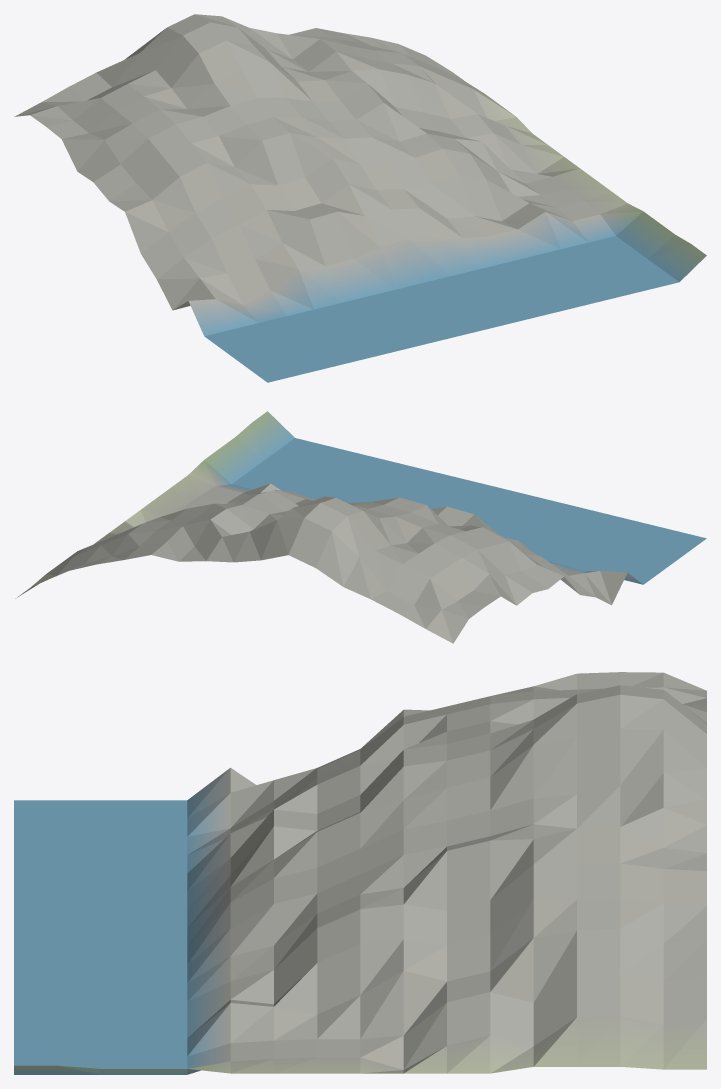
3 renders of one model, top to bottom at view 1: azimuth 30°, elevation 25°; view 2: azimuth 150°, elevation 25°; view 3: azimuth 270°, elevation 25°, orthographic. The views are drawn at different scales.
Size of the model in its own units: 32 by 10.98 by 32.
